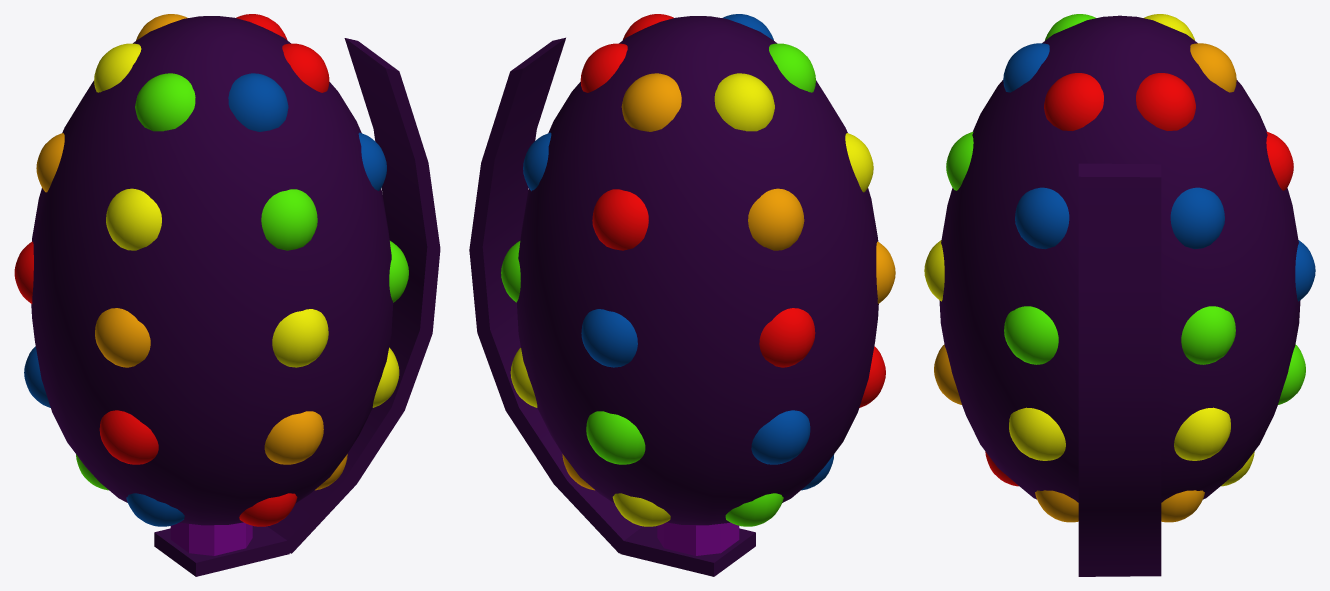
The model's file is Comical Combustion.fbx.
The picture shows the model from 3 angles, left to right: view 1: azimuth 30°, elevation 25°; view 2: azimuth 150°, elevation 25°; view 3: azimuth 270°, elevation 25°; orthographic projection.
Visible parts, largest first — view 1: pSphere1, pasted__pCube2, pasted__pasted__pSphere3 (×4), pasted__pSphere3 (×4), pasted__pSphere2 (×4), pasted__pasted__pSphere2 (×4), pCube2, pasted__pasted__pasted__pSphere2 (×2), pCube1; view 2: pSphere1, pasted__pCube2, pasted__pasted__pSphere3 (×4), pasted__pSphere3 (×4), pasted__pSphere2 (×4), pasted__pasted__pSphere2 (×4), pCube2, pasted__pasted__pasted__pSphere2 (×2), pCube1; view 3: pSphere1, pasted__pCube2, pasted__pasted__pSphere3 (×4), pasted__pSphere3 (×4), pasted__pSphere2 (×4), pasted__pasted__pSphere2 (×4), pasted__pasted__pasted__pSphere2 (×2).
Boxes of the visible parts, x1=… form: pSphere1: x1=31, y1=16, x2=393, y2=525; pasted__pCube2: x1=267, y1=38, x2=440, y2=553; pasted__pasted__pSphere3 (×4): x1=94, y1=43, x2=329, y2=131; pasted__pSphere3 (×4): x1=36, y1=132, x2=386, y2=250; pasted__pSphere2 (×4): x1=14, y1=241, x2=408, y2=367; pasted__pasted__pSphere2 (×4): x1=24, y1=346, x2=399, y2=464; pCube2: x1=154, y1=526, x2=289, y2=576; pasted__pasted__pasted__pSphere2 (×2): x1=126, y1=493, x2=297, y2=526; pCube1: x1=170, y1=522, x2=252, y2=555; pSphere1: x1=516, y1=16, x2=878, y2=525; pasted__pCube2: x1=469, y1=37, x2=642, y2=553; pasted__pasted__pSphere3 (×4): x1=580, y1=43, x2=815, y2=131; pasted__pSphere3 (×4): x1=523, y1=132, x2=873, y2=250; pasted__pSphere2 (×4): x1=501, y1=241, x2=895, y2=367; pasted__pasted__pSphere2 (×4): x1=510, y1=346, x2=885, y2=464; pCube2: x1=620, y1=526, x2=755, y2=576; pasted__pasted__pasted__pSphere2 (×2): x1=612, y1=493, x2=783, y2=526; pCube1: x1=657, y1=522, x2=739, y2=555; pSphere1: x1=939, y1=15, x2=1300, y2=502; pasted__pCube2: x1=1078, y1=163, x2=1161, y2=576; pasted__pasted__pSphere3 (×4): x1=1003, y1=43, x2=1236, y2=130; pasted__pSphere3 (×4): x1=946, y1=131, x2=1293, y2=249; pasted__pSphere2 (×4): x1=924, y1=240, x2=1315, y2=364; pasted__pasted__pSphere2 (×4): x1=934, y1=344, x2=1305, y2=460; pasted__pasted__pasted__pSphere2 (×2): x1=1035, y1=490, x2=1204, y2=522.
Bounding box in the file's own units: 2.31 × 3.17 × 2.16.
